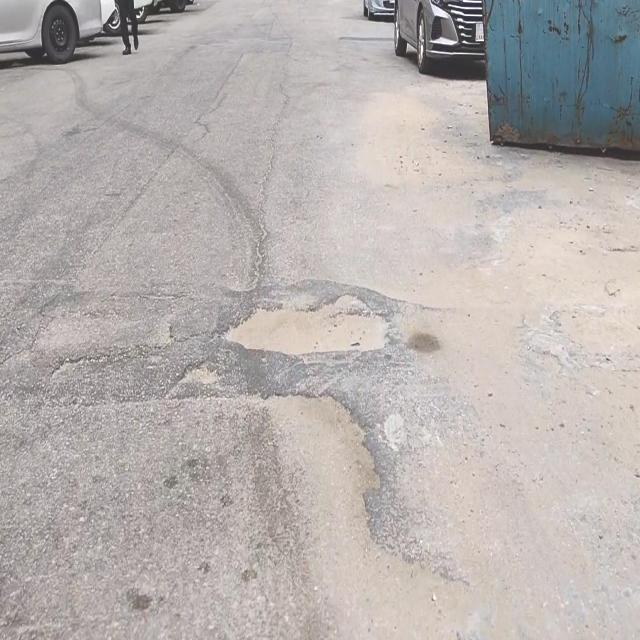Potholes: (214, 286, 390, 361)
